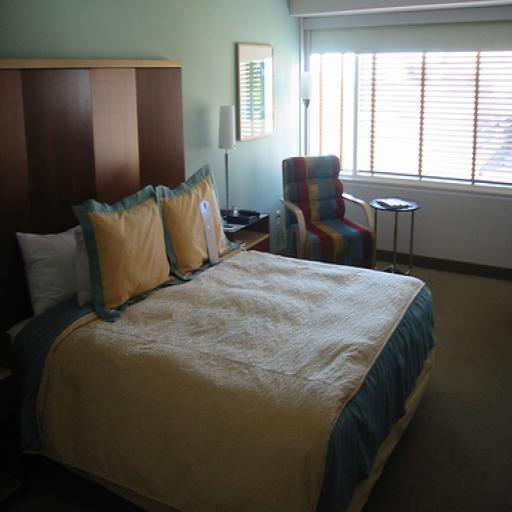bed: (14, 140, 454, 492)
